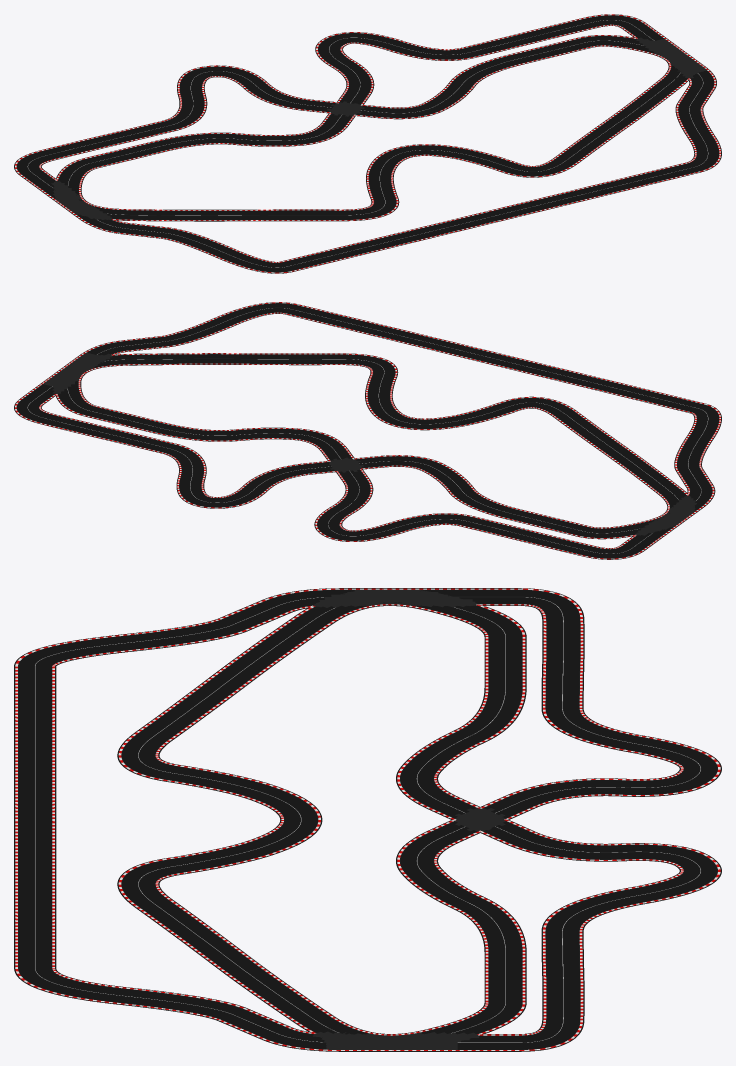
File: C1.AirBag.glb
3 renders of one model, top to bottom at view 1: azimuth 30°, elevation 25°; view 2: azimuth 150°, elevation 25°; view 3: azimuth 270°, elevation 25°, orthographic. The views are drawn at different scales.
Parts seen in each view (by area): view 1: Grid.001; view 2: Grid.001; view 3: Grid.001.
Boxes of the visible parts, left/top/right/bottom form: Grid.001: left=14, top=14, right=721, bottom=273; Grid.001: left=14, top=302, right=721, bottom=559; Grid.001: left=14, top=588, right=721, bottom=1051.
Bounding box in the file's own units: 832 × 0.14 × 537.
